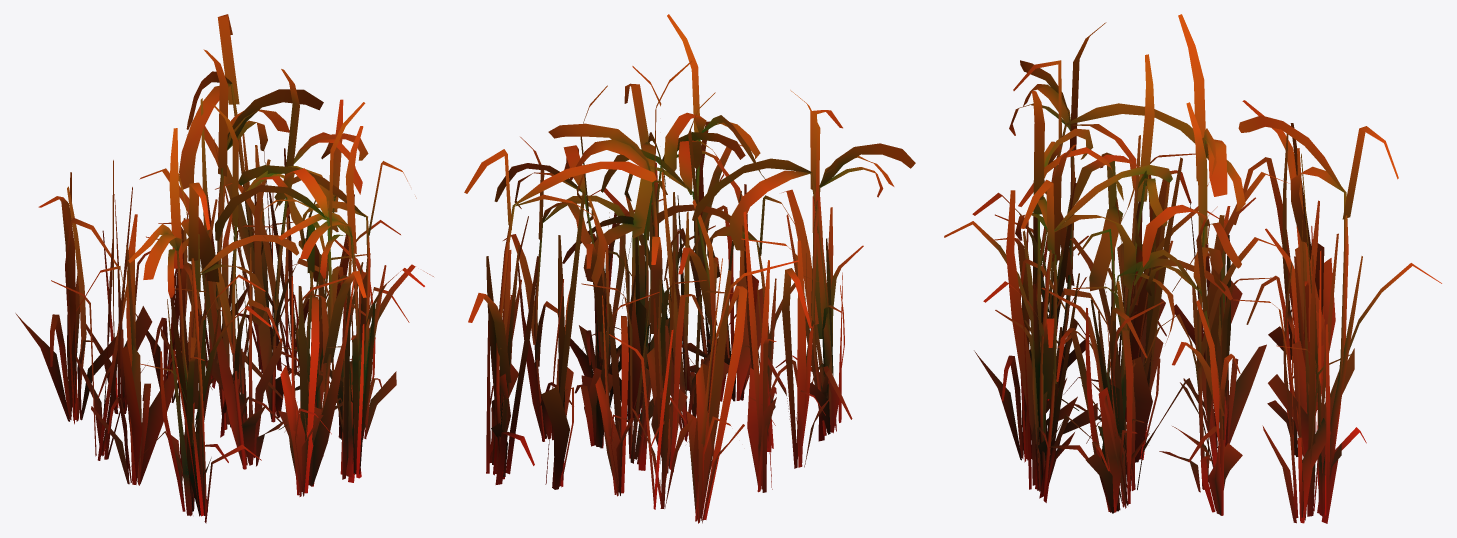
File: SM_Rice_3.fbx
3 views of the same model, side by side, from view 1: azimuth 30°, elevation 25°; view 2: azimuth 150°, elevation 25°; view 3: azimuth 270°, elevation 25° (orthographic). The views are drawn at different scales.
Parts seen in each view (by area): view 1: SM_Rice_3; view 2: SM_Rice_3; view 3: SM_Rice_3.
Boxes of the visible parts, x1,y1,x2,y2 form: SM_Rice_3: (15,14,433,523); SM_Rice_3: (464,14,915,523); SM_Rice_3: (944,14,1441,523).
Size of the model in its own units: 1.48 by 1.67 by 1.72.
